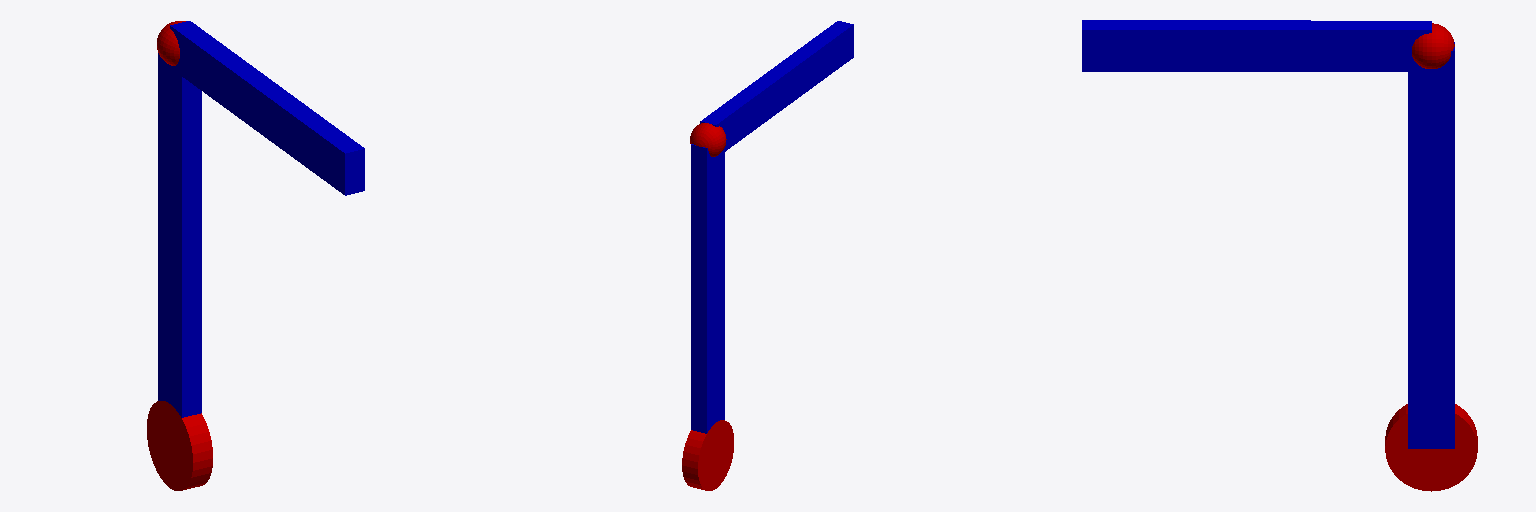
robot.urdf — TwoLinkStruct5412309371:
<?xml version="1.0"?>
<robot  name="TwoLinkStruct5412309371" >
 <material  name="blue" >
  <color  rgba="0 0 0.8 1.0" />
 </material>
 <material  name="red" >
  <color  rgba="0.8 0 0 1.0" />
 </material>
 <link  name="base_link" >
  <visual >
   <origin  rpy="0 1.5707 0"  xyz="0 0 0" />
   <material  name="red" />
   <geometry >
    <cylinder  length="0.05"  radius="0.1" />
   </geometry>
  </visual>
 </link>
 <joint  type="revolute"  name="joint1" >
  <parent  link="base_link" />
  <child  link="link1" />
  <origin  xyz="0 0 0"  rpy="0 0 0" />
  <axis  xyz="1 0 0" />
 </joint>
 <link  name="link1" >
  <inertial >
   <origin  rpy="0 0 0"  xyz="0 0 0.47321698049557354" />
   <mass  value="3.5459585867141716" />
   <inertia  ixy="0.0"  iyy="0.0014774827444642383"  izz="0.26542600525091714"  ixz="0.0"  ixx="0.26542600525091714"  iyz="0.0" />
  </inertial>
  <visual >
   <origin  rpy="0 0 0"  xyz="0 0 0.47321698049557354" />
   <material  name="blue" />
   <geometry >
    <box  size="0.05 0.1 0.9464339609911471" />
   </geometry>
  </visual>
 </link>
 <joint  type="fixed"  name="joint-joint-1" >
  <parent  link="link1" />
  <child  link="joint-link-1" />
  <origin  xyz="0 0 0.9464339609911471"  rpy="1.5707 0 0" />
  <axis  xyz="1 0 0" />
 </joint>
 <link  name="joint-link-1" >
  <inertial >
   <origin  rpy="0 0 0"  xyz="0 0 0" />
   <mass  value="0.20696557537105817" />
   <inertia  ixy="0"  iyy="0"  izz="0"  ixz="0"  ixx="0"  iyz="0" />
  </inertial>
  <visual >
   <origin  rpy="0 0 0"  xyz="0 0 0" />
   <material  name="red" />
   <geometry >
    <sphere  radius="0.05" />
   </geometry>
  </visual>
 </link>
 <joint  type="revolute"  name="joint2" >
  <parent  link="link1" />
  <child  link="link2" />
  <origin  xyz="0 0 0.9464339609911471"  rpy="1.5707 0 0" />
  <axis  xyz="1 0 0" />
 </joint>
 <link  name="link2" >
  <inertial >
   <origin  rpy="0 0 0"  xyz="0 0 0.3764271981888465" />
   <mass  value="2.360399200287847" />
   <inertia  ixy="0.0"  iyy="0.0014774827444642383"  izz="0.16822315412401173"  ixz="0.0"  ixx="0.16822315412401173"  iyz="0.0" />
  </inertial>
  <visual >
   <origin  rpy="0 0 0"  xyz="0 0 0.3764271981888465" />
   <material  name="blue" />
   <geometry >
    <box  size="0.05 0.1 0.752854396377693" />
   </geometry>
  </visual>
 </link>
 <joint  type="fixed"  name="eef_joint" >
  <parent  link="link2" />
  <child  link="eef" />
  <origin  xyz="0 0 0.752854396377693"  rpy="0 0 0" />
 </joint>
 <link  name="eef" >
  <inertial >
   <origin  rpy="0 0 0"  xyz="0 0 0" />
   <mass  value="1" />
   <inertia  ixy="0"  iyy="0"  izz="0"  ixz="0"  ixx="0"  iyz="0" />
  </inertial>
 </link>
 <transmission  name="motor1" >
  <type  xmltext="SimpleTransmission" >
   SimpleTransmission
  </type>
  <actuator  name="motor1" >
   <mechanicalreduction  xmltext="1" >
    1
   </mechanicalreduction>
  </actuator>
  <joint  name="joint1" />
 </transmission>
 <transmission  name="motor2" >
  <type  xmltext="SimpleTransmission" >
   SimpleTransmission
  </type>
  <actuator  name="motor2" >
   <mechanicalreduction  xmltext="1" >
    1
   </mechanicalreduction>
  </actuator>
  <joint  name="joint2" />
 </transmission>
</robot>

<!-- {'carti': array([-0.1 ,  0.14,  0.85]), 'cartd': array([-0.1 ,  0.32,  1.29]), 'tau_mu': 0.05572011825810503, 'b0': 0.28132960780994476, 'Km': 4.762278490264419, 'k_velocity': 45.26103653467304, 'tau_max_m': 3.017657907941825, 'omega_max_m': 4987.487654177653, 'gear_ratio': 13.181153236999005, 'Kp': 18.507293148214732, 'Kd': 34.41245951530024, 'm_m': 0.20696557537105817, 'l1': 0.9464339609911471, 'l2': 0.752854396377693, 'k1': 11178.894945032702, 'k2': 147585791.03586012, 'k3': 337471862.97313523}-->

--- What the picture shows (computed from the rendered views, not written in the file) ---
3 views of the same robot in one strip: view 1: azimuth 30°, elevation 25°; view 2: azimuth 150°, elevation 25°; view 3: azimuth 270°, elevation 25° (orthographic).
Model TwoLinkStruct5412309371 with 5 links and 4 joints (2 revolute, 2 fixed), rooted at base_link, posed every joint at zero.
Links seen in each view (by area): view 1: link1, link2, base_link, joint-link-1; view 2: link1, link2, base_link, joint-link-1; view 3: link1, link2, base_link, joint-link-1.
Boxes of the visible links, bbox=[...] form: link1: bbox=[158, 53, 201, 417]; link2: bbox=[170, 21, 364, 195]; base_link: bbox=[147, 401, 212, 490]; joint-link-1: bbox=[157, 21, 185, 65]; link1: bbox=[691, 144, 724, 433]; link2: bbox=[700, 21, 853, 156]; base_link: bbox=[682, 420, 733, 490]; joint-link-1: bbox=[690, 123, 726, 156]; link1: bbox=[1408, 42, 1454, 448]; link2: bbox=[1082, 20, 1431, 71]; base_link: bbox=[1385, 404, 1477, 491]; joint-link-1: bbox=[1412, 23, 1454, 68].
Size in the robot's own frame: 0.1 by 0.8529 by 1.1 metres.
Geometry: primitives only (box / cylinder / sphere), no mesh files.
